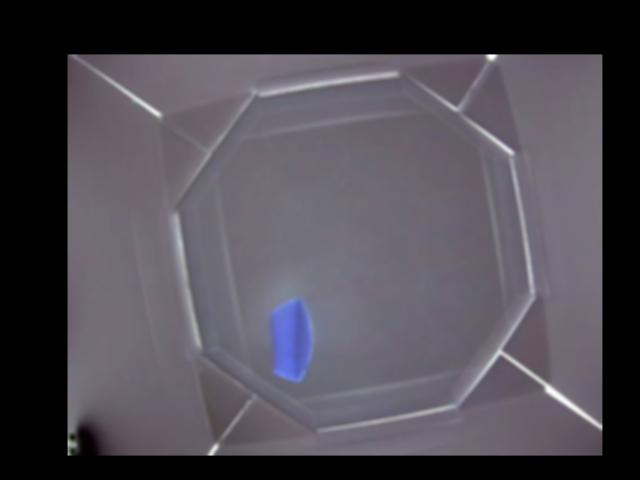Potato: (268, 298, 313, 384)
